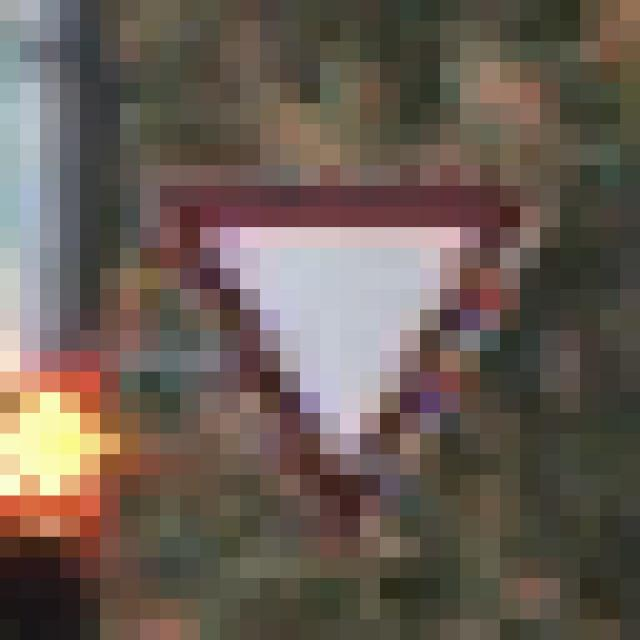Give Way: (121, 125, 541, 538)
